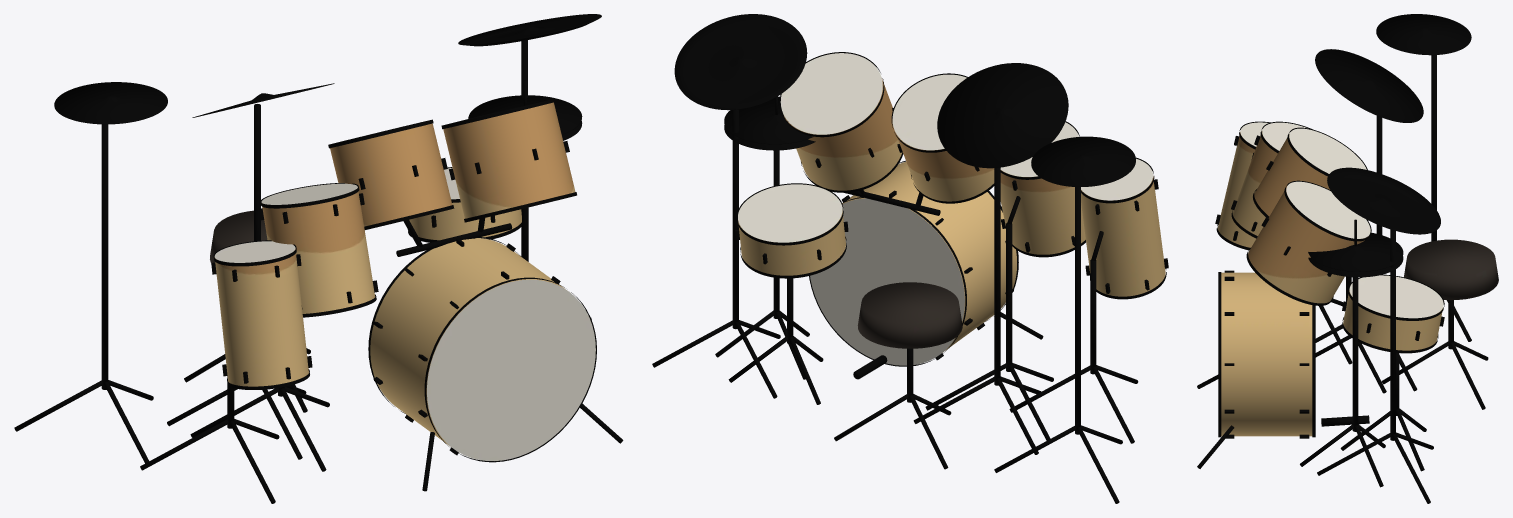
The model's file is drums.glb.
The picture shows the model from 3 angles, left to right: view 1: azimuth 30°, elevation 25°; view 2: azimuth 150°, elevation 25°; view 3: azimuth 270°, elevation 25°; orthographic projection. The views are drawn at different scales.
Parts seen in each view (by area): view 1: drums; view 2: drums; view 3: drums.
Part boxes in pixels (left/top/right/bottom): drums: left=14, top=14, right=623, bottom=503; drums: left=652, top=14, right=1168, bottom=503; drums: left=1197, top=14, right=1498, bottom=503.
Size of the model in its own units: 1.92 by 1.26 by 1.12.
Materials: 1 (1 with a texture image).
